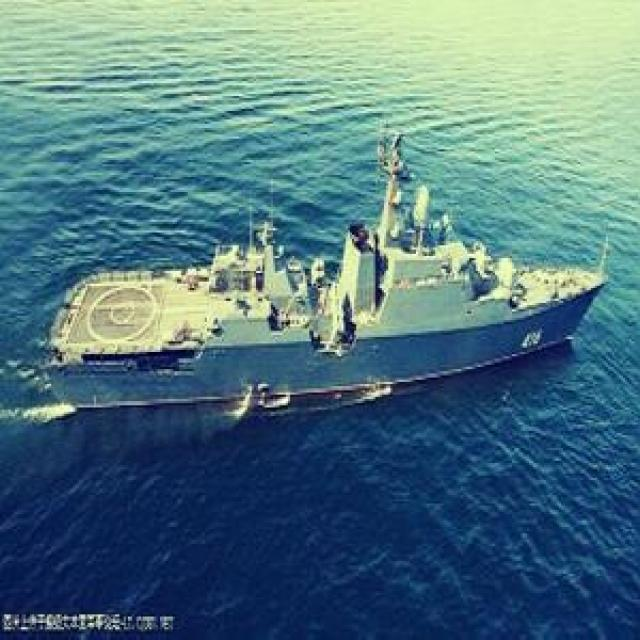navalvessels: (31, 143, 602, 410)
